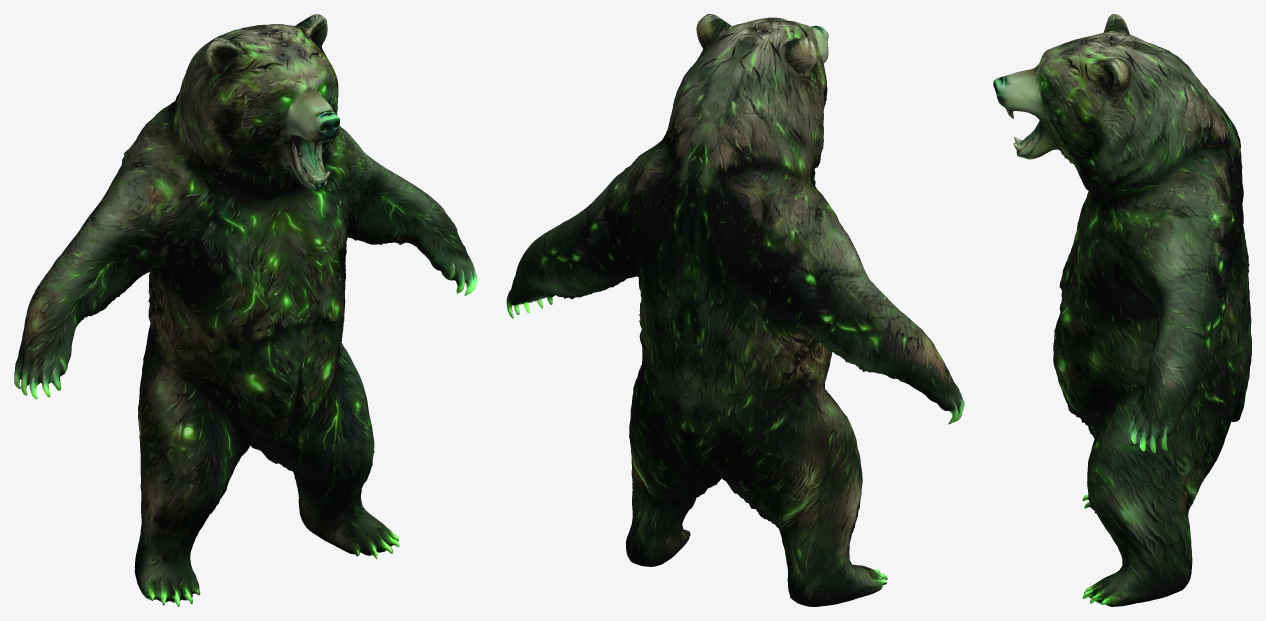
Rendered from Meshy_AI_Bioluminescent_Bear_0418104737_texture.fbx.
3 views of the same model, side by side, from view 1: azimuth 30°, elevation 25°; view 2: azimuth 150°, elevation 25°; view 3: azimuth 270°, elevation 25° (orthographic). The views are drawn at different scales.
Parts seen in each view (by area): view 1: Mesh_0; view 2: Mesh_0; view 3: Mesh_0.
Part boxes in pixels (x1=…): Mesh_0: x1=14, y1=14, x2=477, y2=606; Mesh_0: x1=506, y1=14, x2=964, y2=606; Mesh_0: x1=993, y1=14, x2=1251, y2=606.
Size of the model in its own units: 167 by 191 by 86.76.
1 material, 1 textured.
